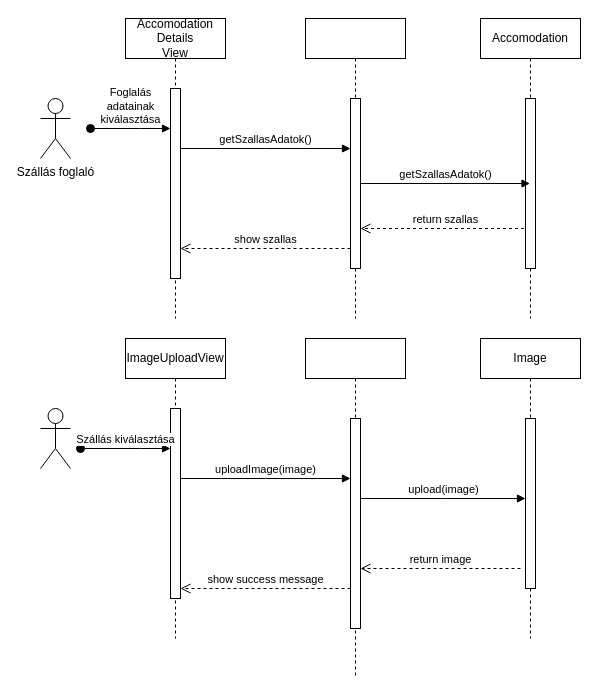
The diagram is 598 pixels wide and 696 high, and some of its shapes have lost their labels. The shapes that lost their labels are listed below. From the top down, each one's box as (x1, y1, x2, y2) in pixels, then its label:
(304, 18, 406, 318): Accomodation Controller
(40, 408, 70, 468): Szállás adó
(304, 338, 406, 678): ImageController
